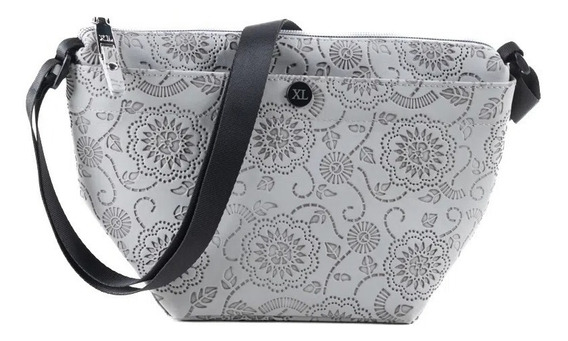cartera: (23, 14, 543, 327)
